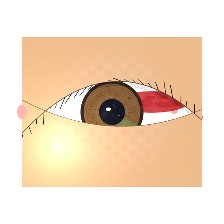hemorrhage_spot: (101, 62, 202, 143)
